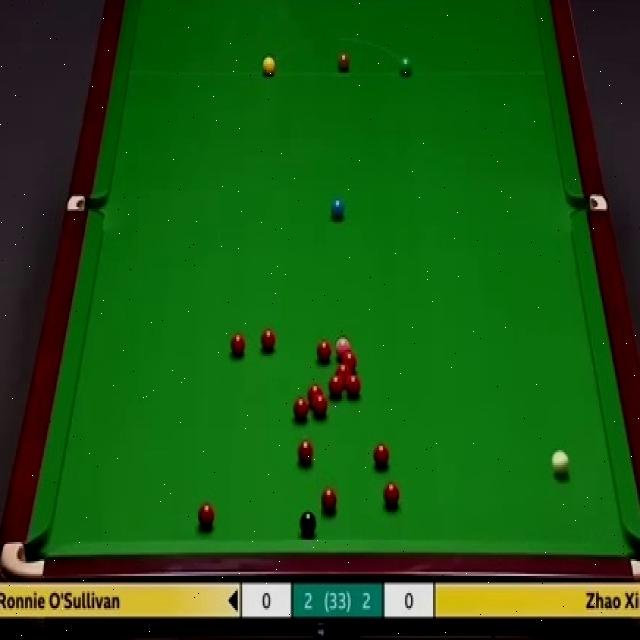black-ball: (298, 507, 317, 534)
blue-ball: (330, 200, 345, 218)
brown-ball: (338, 53, 350, 72)
green-ball: (398, 54, 413, 77)
pink-ball: (336, 337, 350, 359)
red-ball: (320, 486, 338, 517), (372, 441, 390, 468), (297, 437, 313, 467), (340, 350, 358, 375), (260, 325, 277, 350), (198, 505, 215, 529), (384, 483, 400, 508), (314, 341, 332, 363), (293, 396, 308, 422), (230, 335, 247, 356), (346, 374, 361, 395), (314, 394, 328, 416), (308, 384, 322, 405), (329, 375, 343, 395)
white-ball: (551, 449, 569, 473)
yellow-ball: (262, 56, 276, 77)
